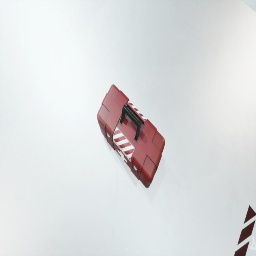FirstAidBox ,: (97, 84, 165, 188)
